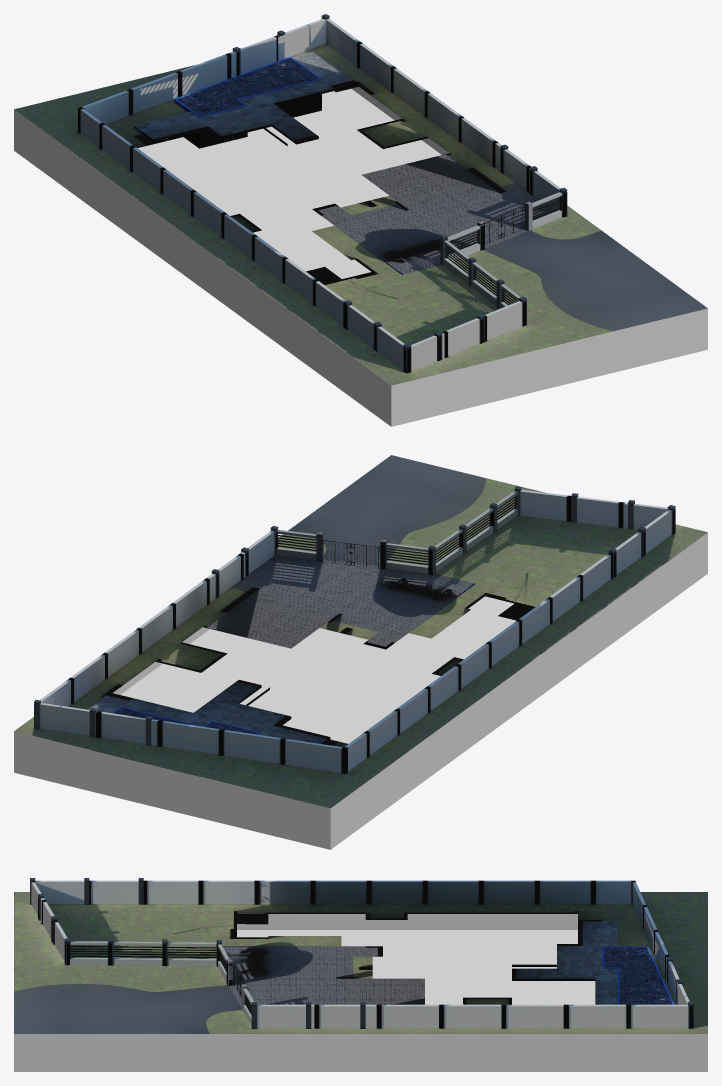
File: site.glb
3 views of the same model, one above another, from view 1: azimuth 30°, elevation 25°; view 2: azimuth 150°, elevation 25°; view 3: azimuth 270°, elevation 25° (orthographic). The views are drawn at different scales.
Visible parts, largest first — view 1: Bake_site, site_base.002; view 2: Bake_site, site_base.002; view 3: Bake_site, site_base.002.
Part boxes in pixels (x1=…): Bake_site: x1=14, y1=14, x2=707, y2=385; site_base.002: x1=14, y1=87, x2=707, y2=426; Bake_site: x1=14, y1=455, x2=707, y2=808; site_base.002: x1=14, y1=532, x2=707, y2=849; Bake_site: x1=14, y1=878, x2=707, y2=1033; site_base.002: x1=14, y1=914, x2=707, y2=1071.
Bounding box in the file's own units: 22.22 × 4.61 × 45.89.
Materials: 3 (2 with a texture image).
